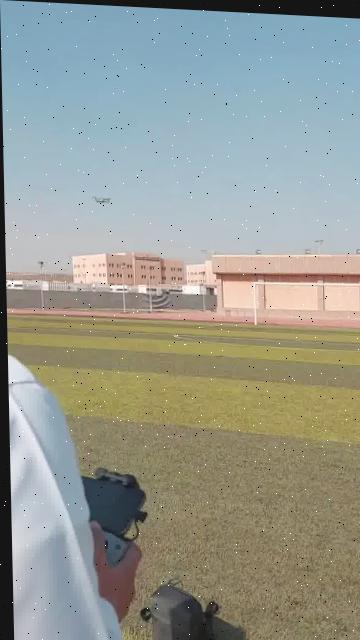drone: (83, 191, 118, 209)
